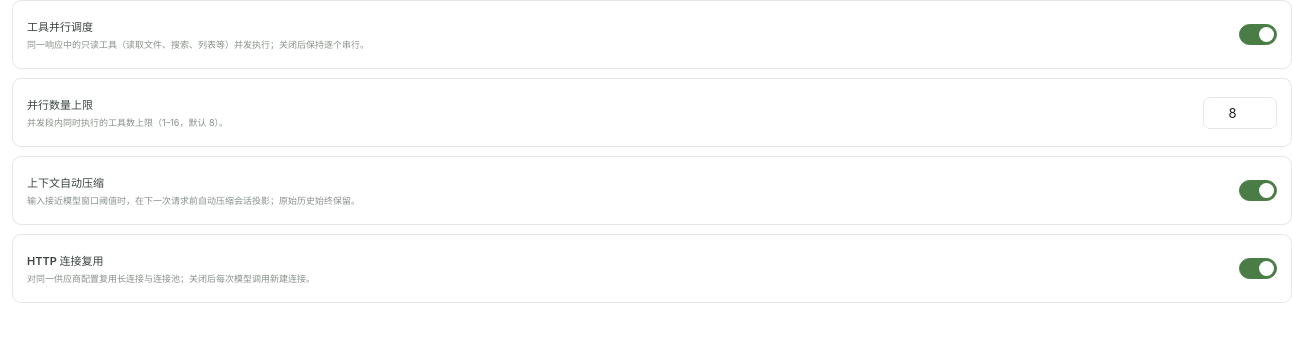
Test: 上限越界时提示并回退不保存
Replace the text in the number field named "工具并行数量上限" with "32": (1240,112) left=1203, top=96, right=1277, bottom=128
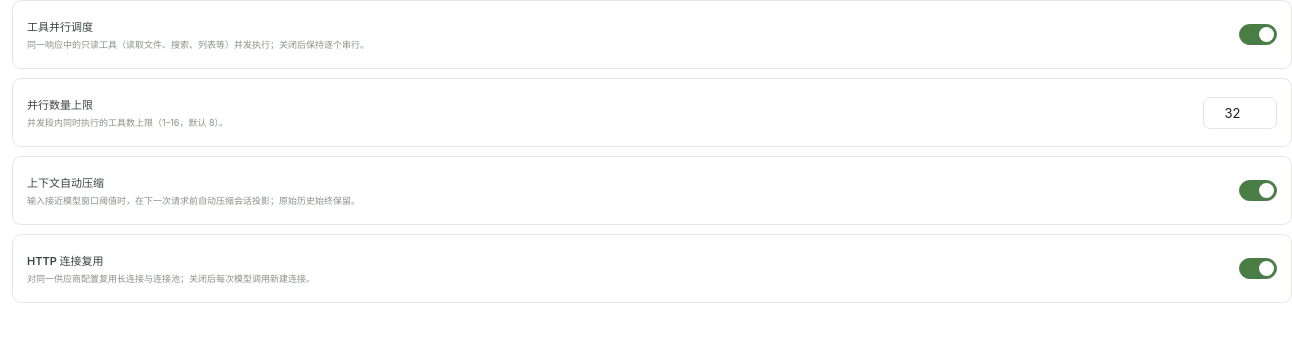
Leave the number field named "工具并行数量上限", box left=1203, top=96, right=1277, bottom=128
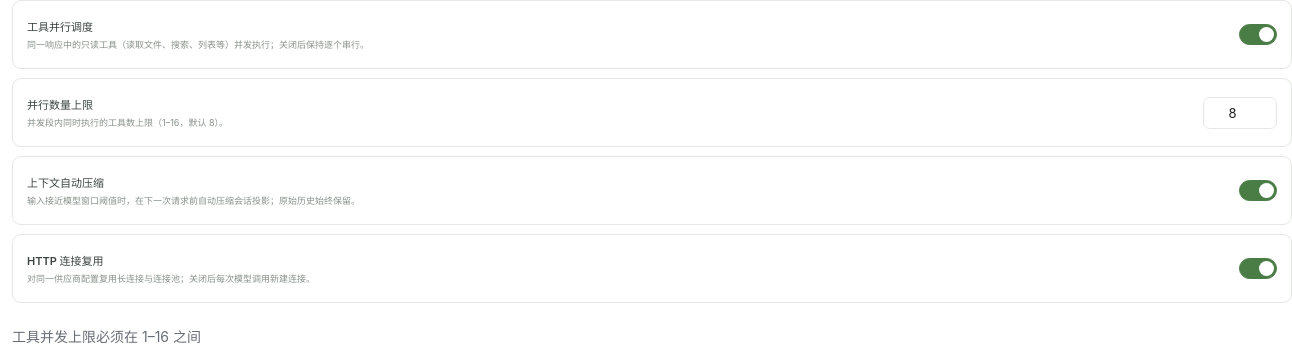
expect the text "工具并发上限必须在 1–16 之间" is shown: met, box left=12, top=328, right=201, bottom=345
expect the number field named "工具并行数量上限" holds "8": met, box left=1203, top=96, right=1277, bottom=128
